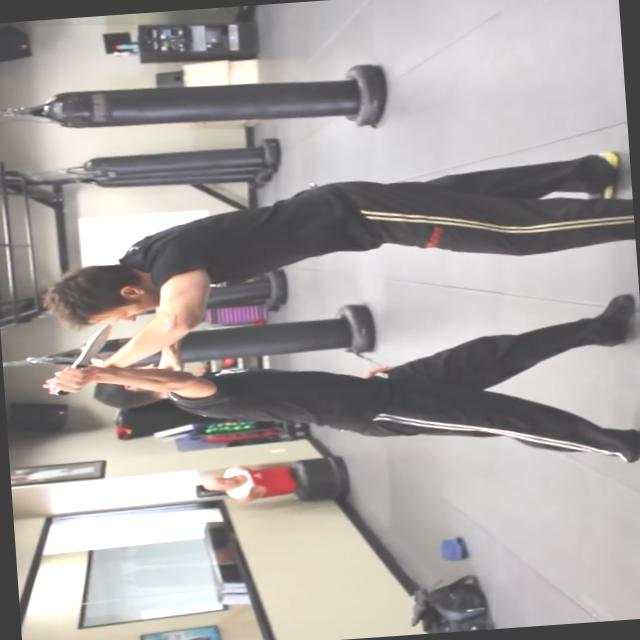knife: (38, 320, 118, 398)
